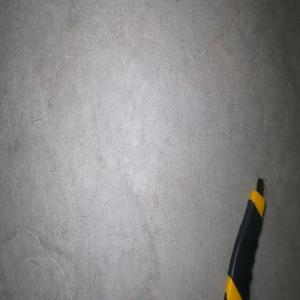Cutter: (222, 176, 265, 300)
